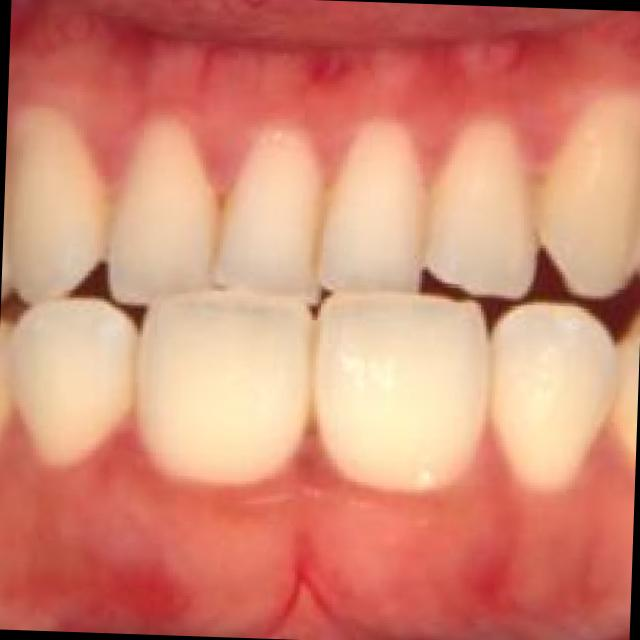karies: (202, 193, 236, 254)
